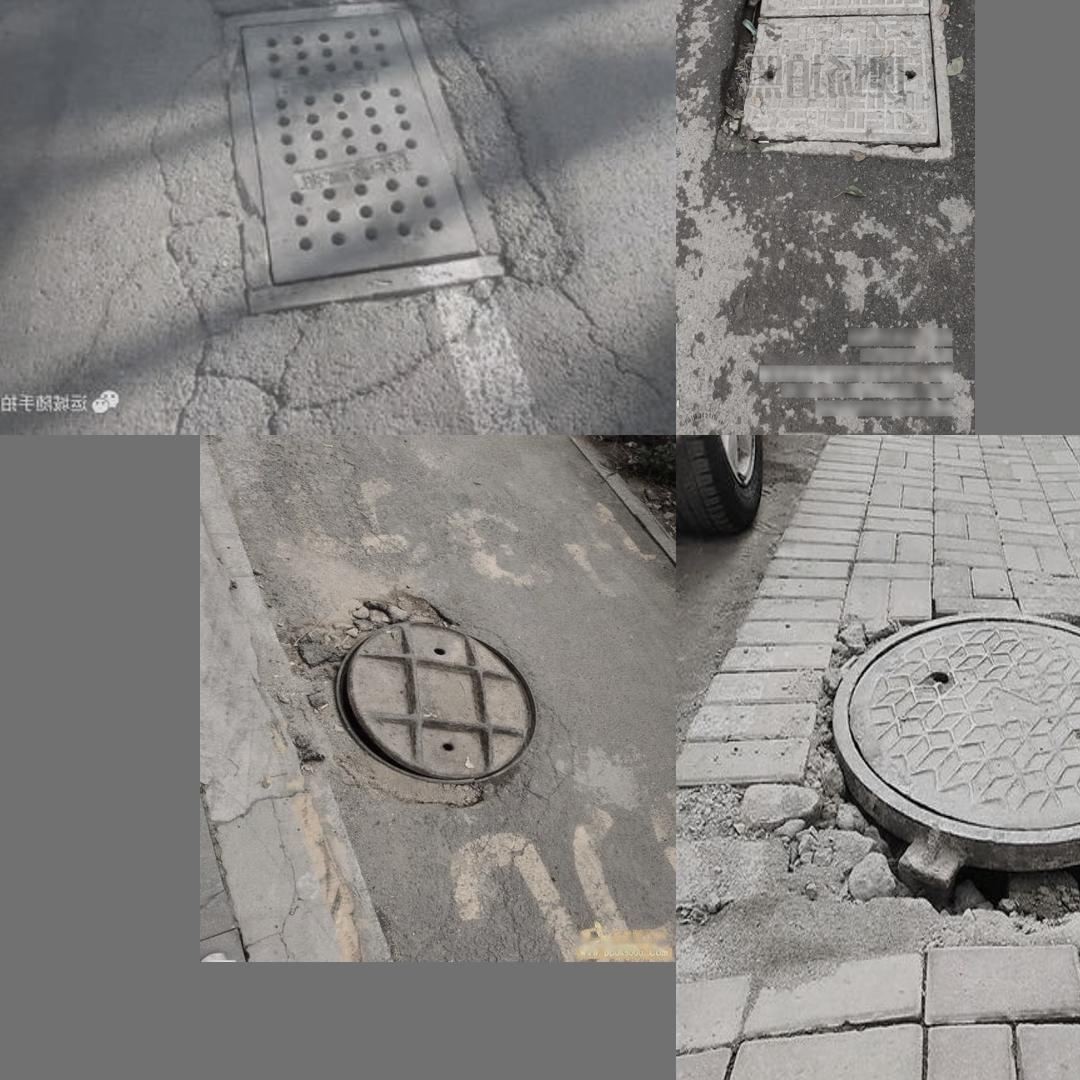circle: (135, 0, 584, 401), (741, 612, 1080, 944), (253, 571, 557, 833), (713, 0, 949, 159)
